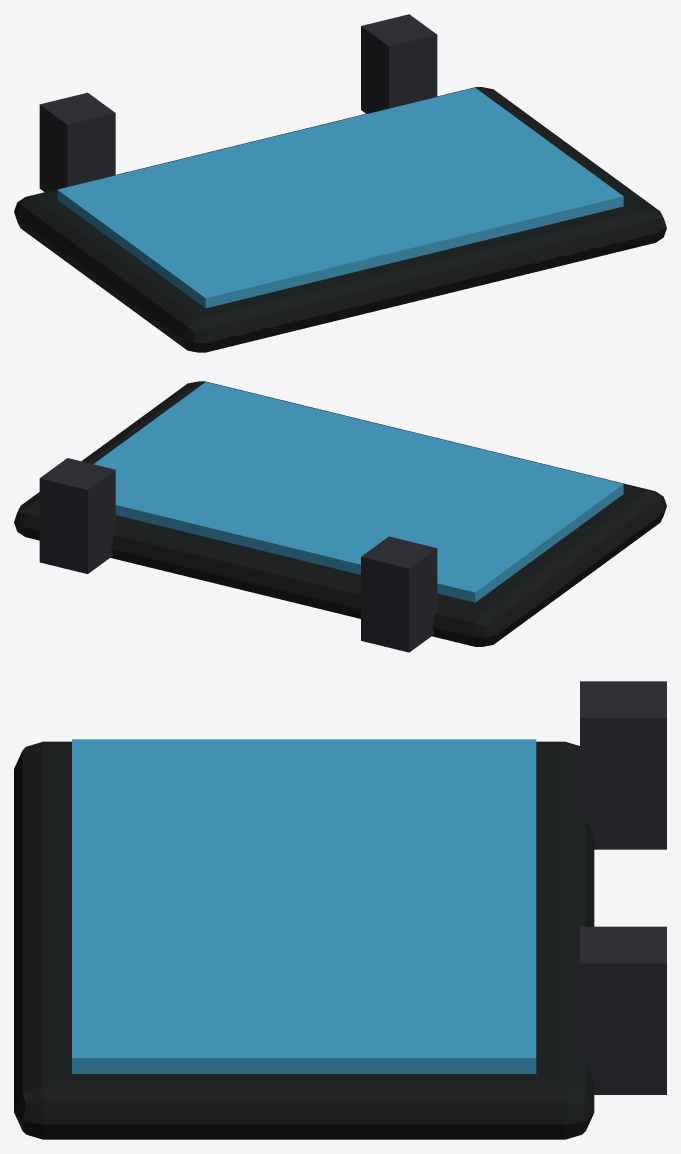
File: DroneTablet.obj
3 renders of one model, top to bottom at view 1: azimuth 30°, elevation 25°; view 2: azimuth 150°, elevation 25°; view 3: azimuth 270°, elevation 25°, orthographic. The views are drawn at different scales.
Visible parts, largest first — view 1: DroneTablet_Screen, DroneTablet_Body, DroneTablet_StickL, DroneTablet_StickR; view 2: DroneTablet_Screen, DroneTablet_Body, DroneTablet_StickR, DroneTablet_StickL; view 3: DroneTablet_Screen, DroneTablet_Body, DroneTablet_StickR, DroneTablet_StickL.
Part boxes in pixels (left/top/right/bottom): DroneTablet_Screen: left=57, top=88, right=623, bottom=308; DroneTablet_Body: left=14, top=87, right=666, bottom=352; DroneTablet_StickL: left=39, top=92, right=115, bottom=191; DroneTablet_StickR: left=361, top=14, right=437, bottom=113; DroneTablet_Screen: left=93, top=382, right=623, bottom=602; DroneTablet_Body: left=14, top=381, right=666, bottom=646; DroneTablet_StickR: left=39, top=458, right=115, bottom=573; DroneTablet_StickL: left=361, top=536, right=437, bottom=652; DroneTablet_Screen: left=72, top=739, right=536, bottom=1073; DroneTablet_Body: left=14, top=741, right=594, bottom=1139; DroneTablet_StickR: left=580, top=926, right=666, bottom=1094; DroneTablet_StickL: left=580, top=681, right=666, bottom=849.
Bounding box in the file's own units: 0.3 × 0.055 × 0.225.
